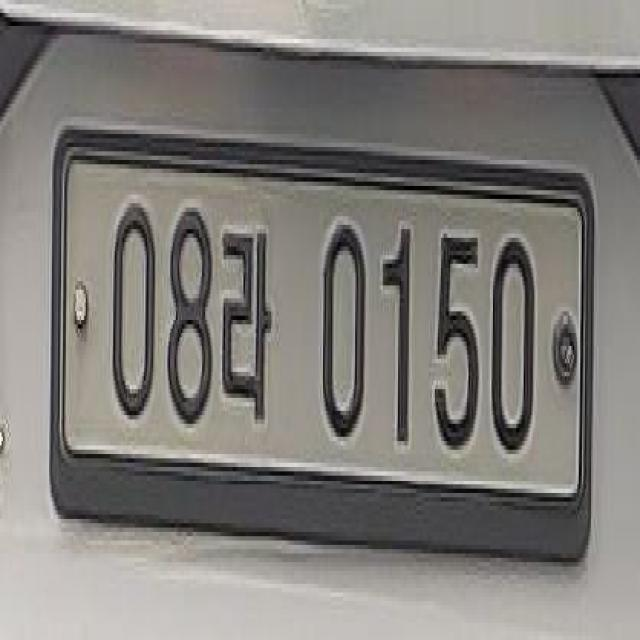illegal_plate: (51, 132, 605, 582)
